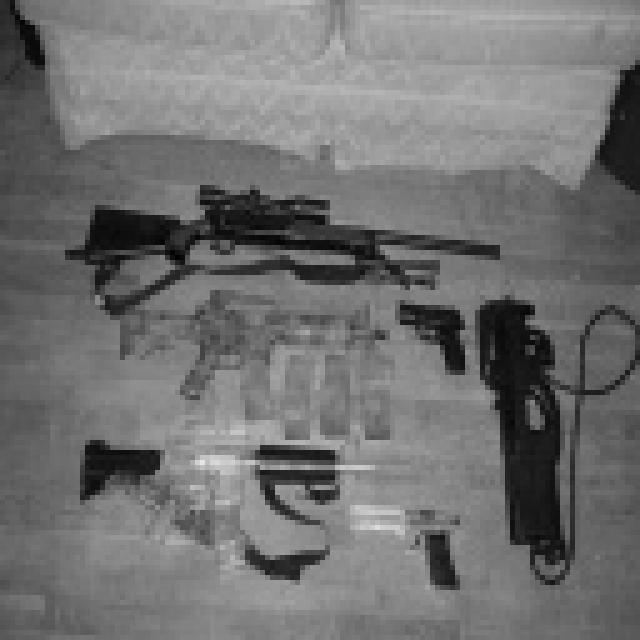Rifle: (46, 181, 522, 322), (48, 439, 429, 594), (470, 298, 617, 598), (97, 312, 396, 413)
